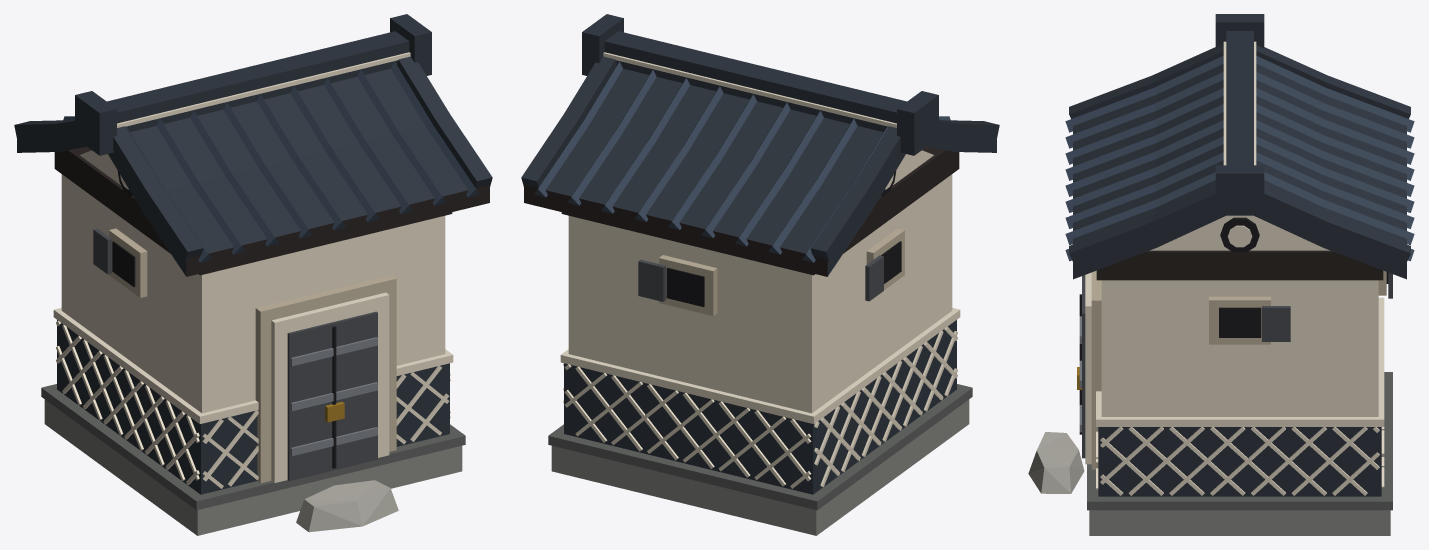
Rendered from storehouse_kura.fbx.
The picture shows the model from 3 angles, left to right: view 1: azimuth 30°, elevation 25°; view 2: azimuth 150°, elevation 25°; view 3: azimuth 270°, elevation 25°; orthographic projection.
Visible parts, largest first — view 1: storehouse_kura; view 2: storehouse_kura; view 3: storehouse_kura.
Boxes of the visible parts, left/top/right/bottom form: storehouse_kura: left=14, top=14, right=492, bottom=535; storehouse_kura: left=521, top=14, right=999, bottom=535; storehouse_kura: left=1028, top=14, right=1414, bottom=535.
Size of the model in its own units: 4.64 by 5.13 by 4.74.
